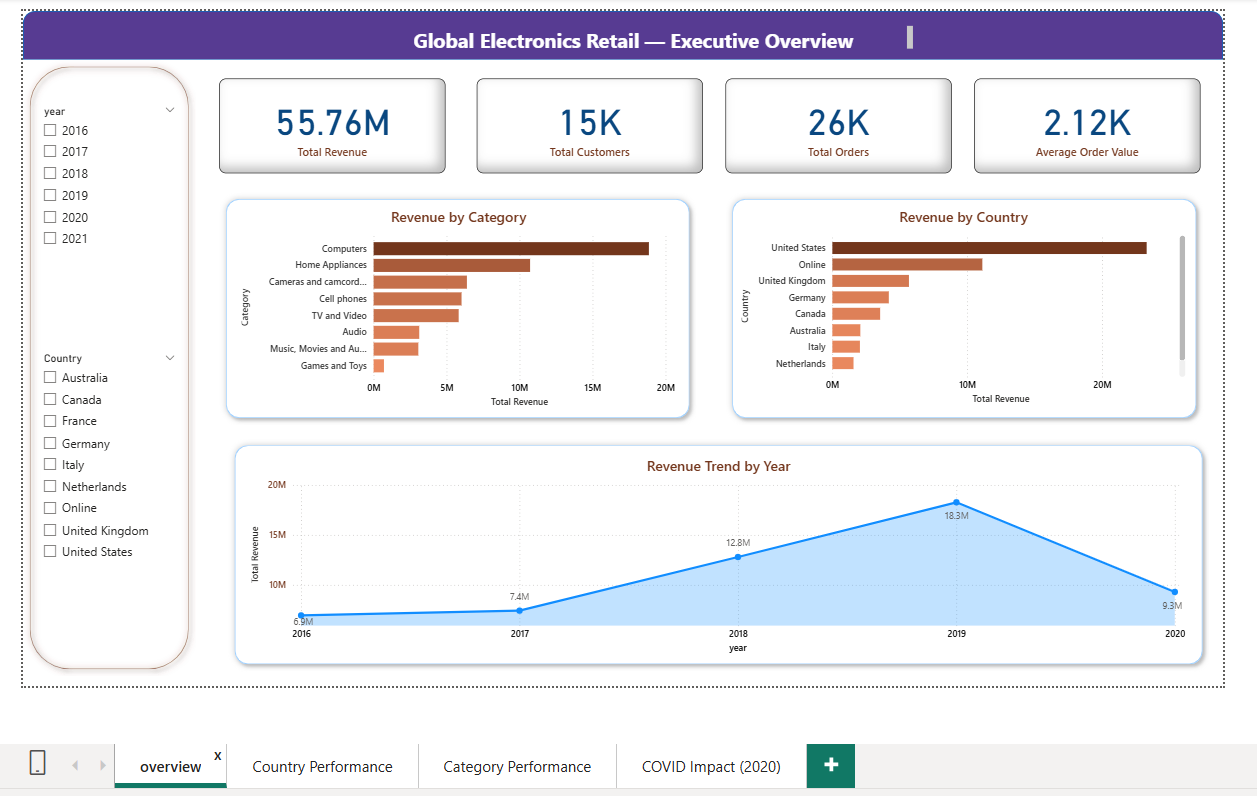

This screenshot's page, from the dashboard's own definition file:
{"tool":"powerbi","page":{"name":"overview","canvas":[1600,900],"ordinal":0},"visuals":[{"type":"shape","box":[0,0,1600,65],"z":0},{"type":"textbox","box":[445,15,746.7,50],"z":1000},{"type":"shape","box":[261.4,241.4,636,310],"z":2000},{"type":"shape","box":[936.7,241.7,636.7,310],"z":3000},{"type":"clusteredBarChart","title":"Revenue by Country","fields":{"Category":["Stores.Country"],"Y":["_measures.Total Revenue"]},"box":[953.3,261.7,601.7,268.3],"z":4000},{"type":"shape","box":[273.3,570,1308.3,310],"z":5000},{"type":"clusteredBarChart","title":"Revenue by Category","fields":{"Category":["Products.Category"],"Y":["_measures.Total Revenue"]},"box":[286.7,261.7,588.3,271.7],"z":6000},{"type":"slicer","fields":{"Values":["Stores.Country"]},"box":[15,450,200,310],"z":7000},{"type":"slicer","fields":{"Values":["Calendar.year"]},"box":[15,120,200,243.3],"z":8000},{"type":"card","fields":{"Values":["_measures.Total Customers"]},"box":[605,90,301.7,126.7],"z":9000},{"type":"card","fields":{"Values":["_measures.Total Orders"]},"box":[936.7,90,301.7,126.7],"z":10000},{"type":"card","fields":{"Values":["_measures.Average Order Value"]},"box":[1268.3,90,301.7,126.7],"z":11000},{"type":"card","fields":{"Values":["_measures.Total Revenue"]},"box":[261.7,90,301.7,126.7],"z":12000},{"type":"lineChart","title":"Revenue Trend by Year","fields":{"Category":["Calendar.year"],"Y":["_measures.Total Revenue"]},"box":[300,593.3,1255,268.3],"z":13000},{"type":"shape","box":[0,65,230,821.7],"z":14000}]}

Visuals, with their boxes on the page's 1600x900 design canvas (x1, y1, x2, y2). These are canvas units, not pixel positions in the 1257x796 screenshot, which may show the page scaled, cropped or inside an application window:
shape: [0, 0, 1600, 65]
textbox: [445, 15, 1192, 65]
shape: [261, 241, 897, 551]
shape: [937, 242, 1573, 552]
"Revenue by Country" clusteredBarChart: [953, 262, 1555, 530]
shape: [273, 570, 1582, 880]
"Revenue by Category" clusteredBarChart: [287, 262, 875, 533]
slicer - Stores.Country: [15, 450, 215, 760]
slicer - Calendar.year: [15, 120, 215, 363]
card - _measures.Total Customers: [605, 90, 907, 217]
card - _measures.Total Orders: [937, 90, 1238, 217]
card - _measures.Average Order Value: [1268, 90, 1570, 217]
card - _measures.Total Revenue: [262, 90, 563, 217]
"Revenue Trend by Year" lineChart: [300, 593, 1555, 862]
shape: [0, 65, 230, 887]
